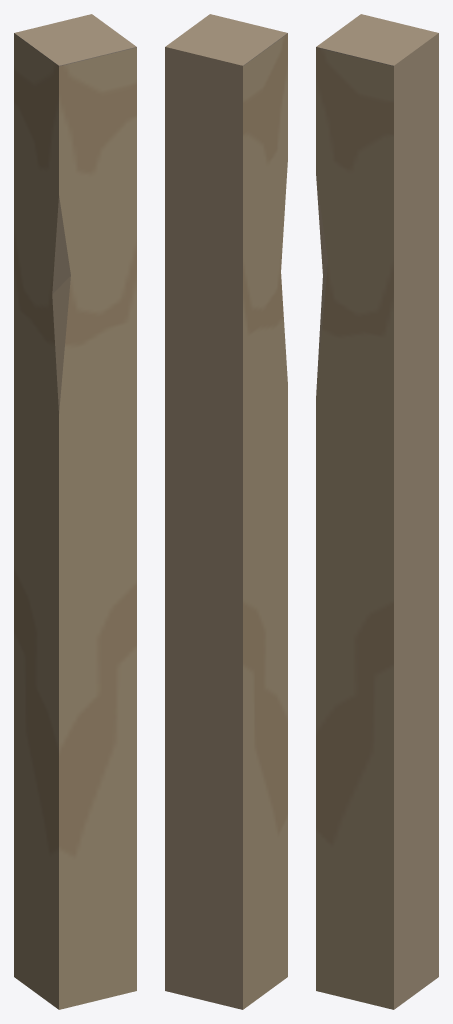
Rendered from SM_Bld_House_Corner_02.glb.
3 views of the same model, side by side, from view 1: azimuth 30°, elevation 25°; view 2: azimuth 150°, elevation 25°; view 3: azimuth 330°, elevation 25° (orthographic).
Visible parts, largest first — view 1: SM_Bld_House_Corner_02; view 2: SM_Bld_House_Corner_02; view 3: SM_Bld_House_Corner_02.
Part boxes in pixels (x1=…): SM_Bld_House_Corner_02: x1=14, y1=14, x2=136, y2=1009; SM_Bld_House_Corner_02: x1=165, y1=14, x2=287, y2=1009; SM_Bld_House_Corner_02: x1=316, y1=14, x2=438, y2=1009.
Size of the model in its own units: 0.25 by 2.9 by 0.25.
1 material, 1 textured.
